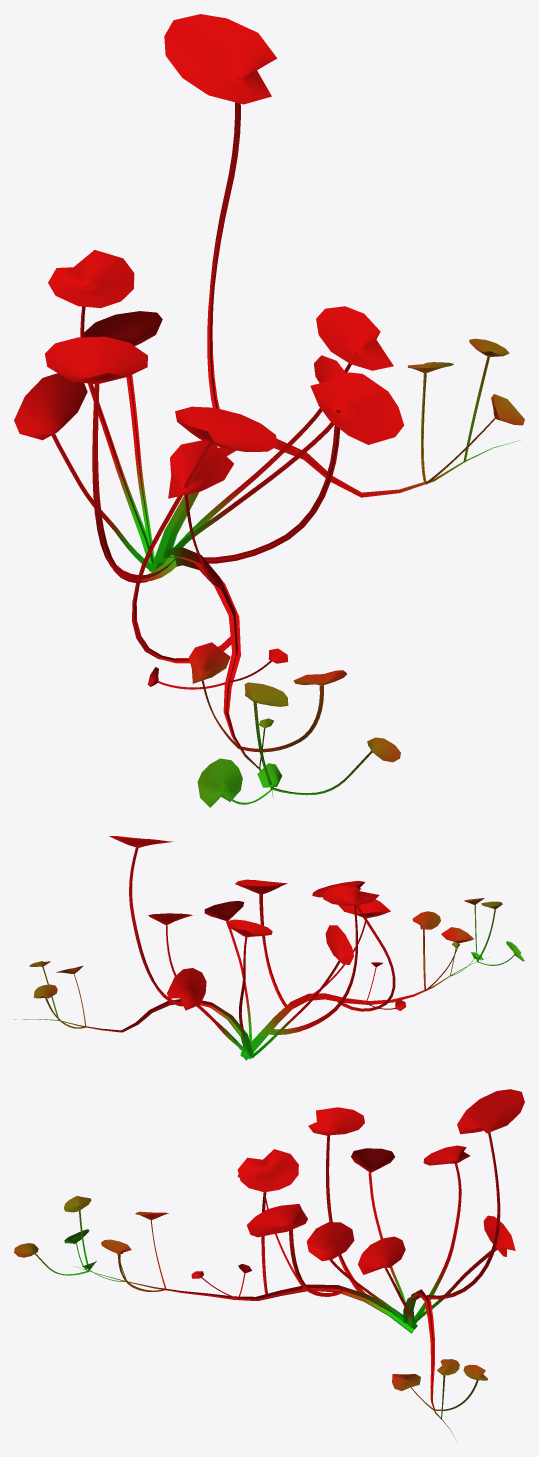
The model's file is Var6_LOD0.fbx.
3 renders of one model, top to bottom at view 1: azimuth 30°, elevation 25°; view 2: azimuth 150°, elevation 25°; view 3: azimuth 270°, elevation 25°, orthographic. The views are drawn at different scales.
Visible parts, largest first — view 1: _2d9e_Var6_LOD0; view 2: _2d9e_Var6_LOD0; view 3: _2d9e_Var6_LOD0.
Part boxes in pixels (<box>): _2d9e_Var6_LOD0: <box>14,14,524,807</box>; _2d9e_Var6_LOD0: <box>14,836,524,1060</box>; _2d9e_Var6_LOD0: <box>14,1089,524,1438</box>.
Bounding box in the file's own units: 34.07 × 23.47 × 39.94.
